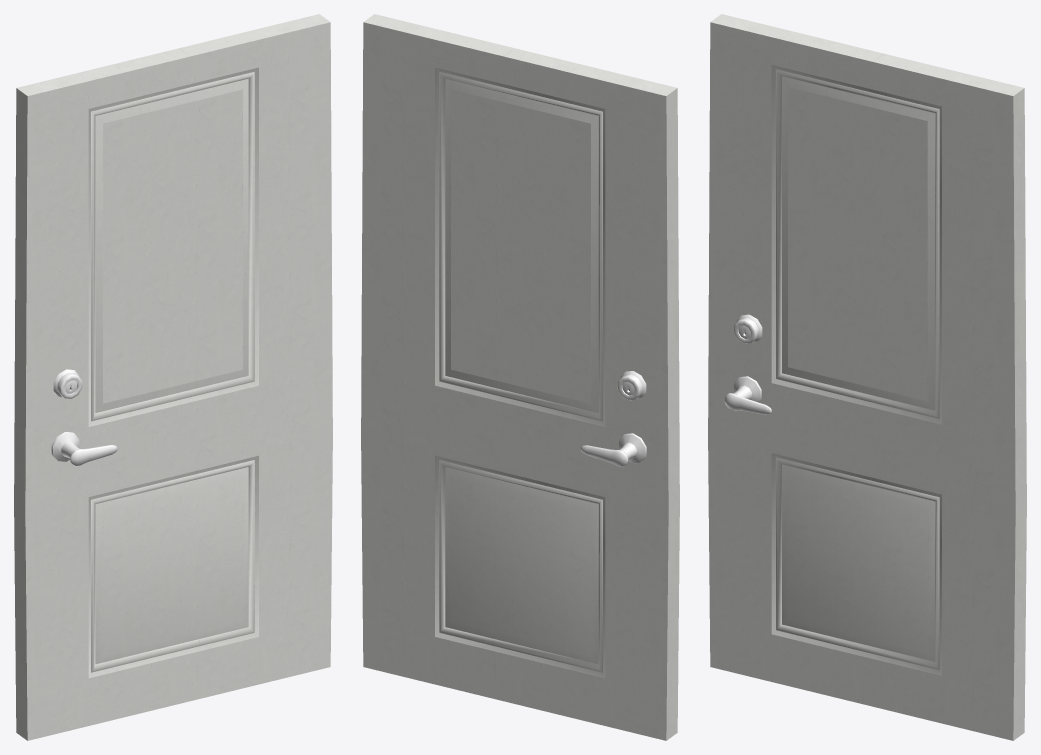
The model's file is Door.fbx.
3 views of the same model, side by side, from view 1: azimuth 30°, elevation 25°; view 2: azimuth 150°, elevation 25°; view 3: azimuth 330°, elevation 25° (orthographic).
Visible parts, largest first — view 1: Door; view 2: Door; view 3: Door.
Boxes of the visible parts, x1,y1,x2,y2 form: Door: (14,14,332,740); Door: (361,14,679,740); Door: (708,14,1026,740).
Bounding box in the file's own units: 647 × 1296 × 158.
